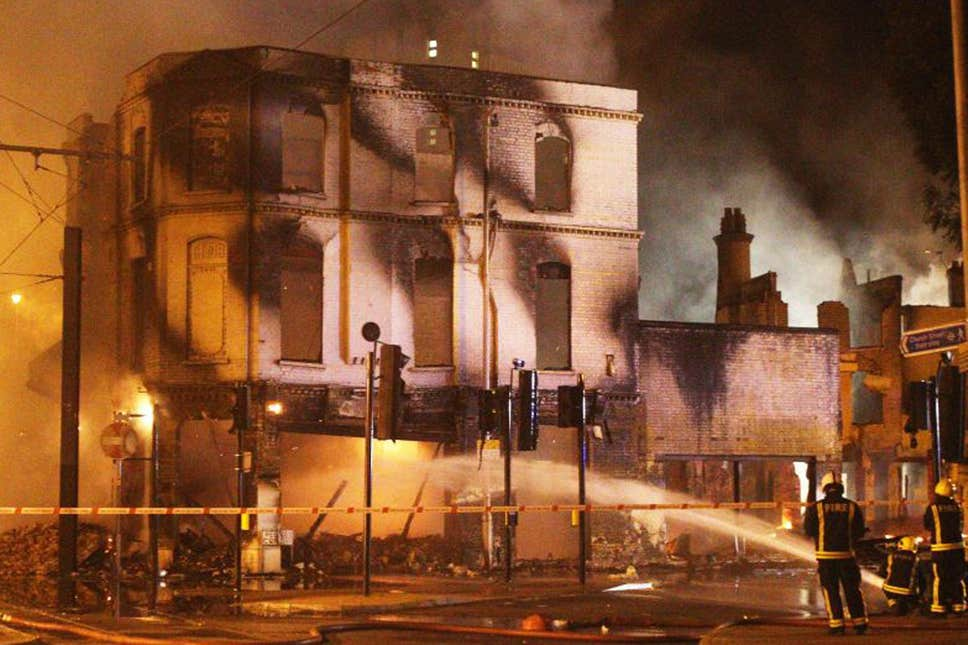Fire: (279, 431, 442, 535), (124, 379, 159, 484)
